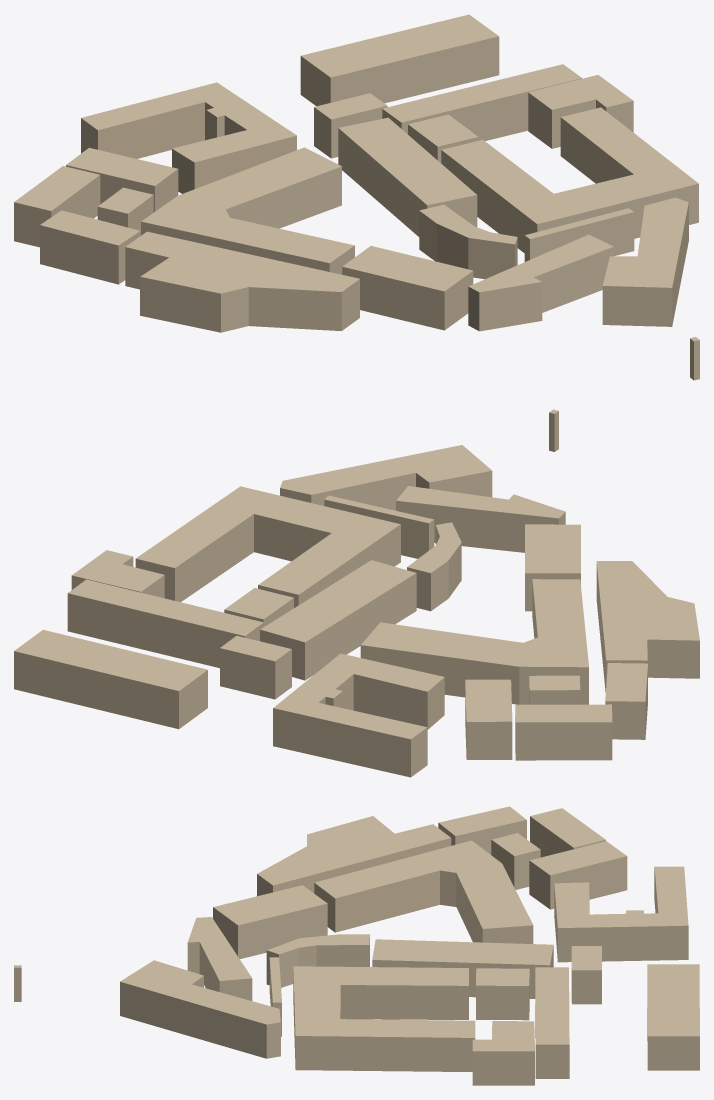
File: -7_4-estimated-coarse.glb
3 views of the same model, one above another, from view 1: azimuth 30°, elevation 25°; view 2: azimuth 150°, elevation 25°; view 3: azimuth 270°, elevation 25° (orthographic). The views are drawn at different scales.
Size of the model in its own units: 184 by 12 by 218.
